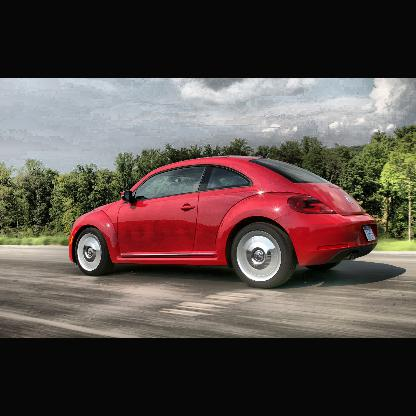Volkswagen Beetle Hatchback 2012: (69, 158, 379, 289)
